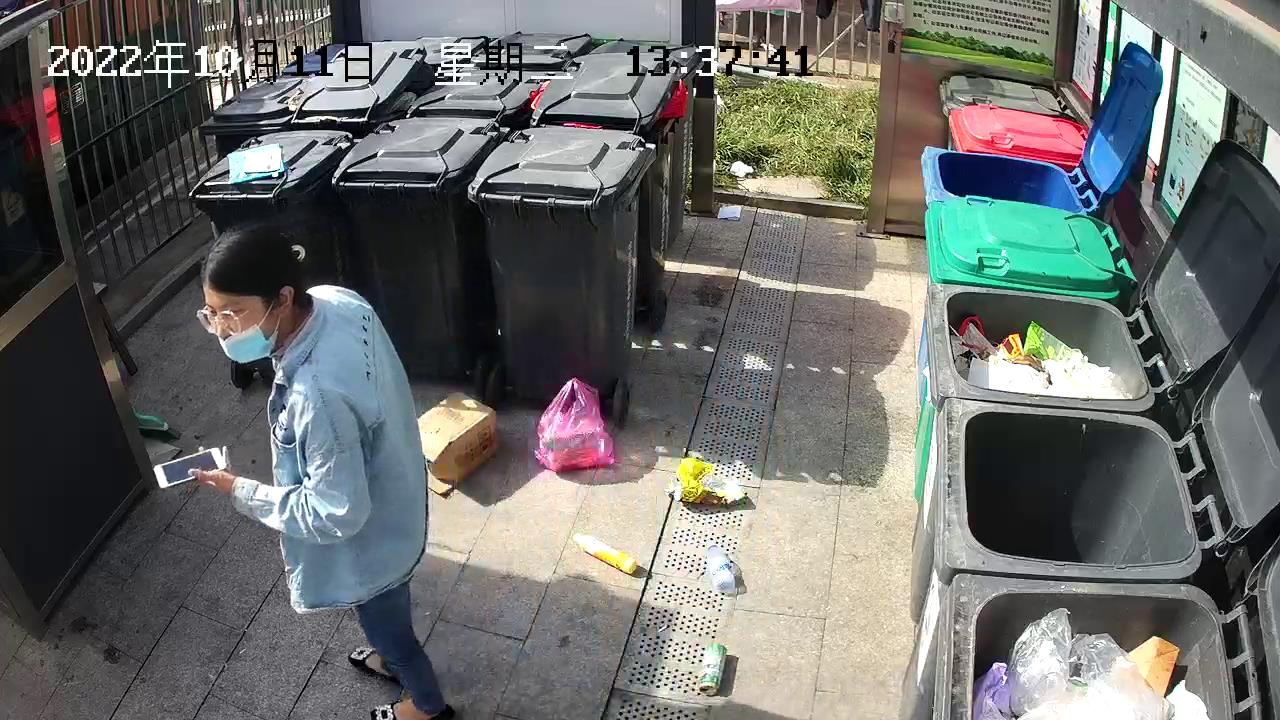garbage: (669, 448, 751, 517)
garbage-bag: (530, 371, 623, 475)
lvzhipin: (693, 638, 730, 699)
suliaozhipin: (568, 530, 641, 579), (702, 534, 743, 600)
worker: (143, 222, 458, 720)
zhizhipin: (408, 383, 504, 498)
